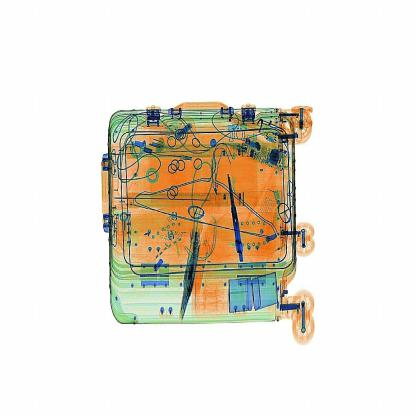gun: (222, 165, 249, 271)
